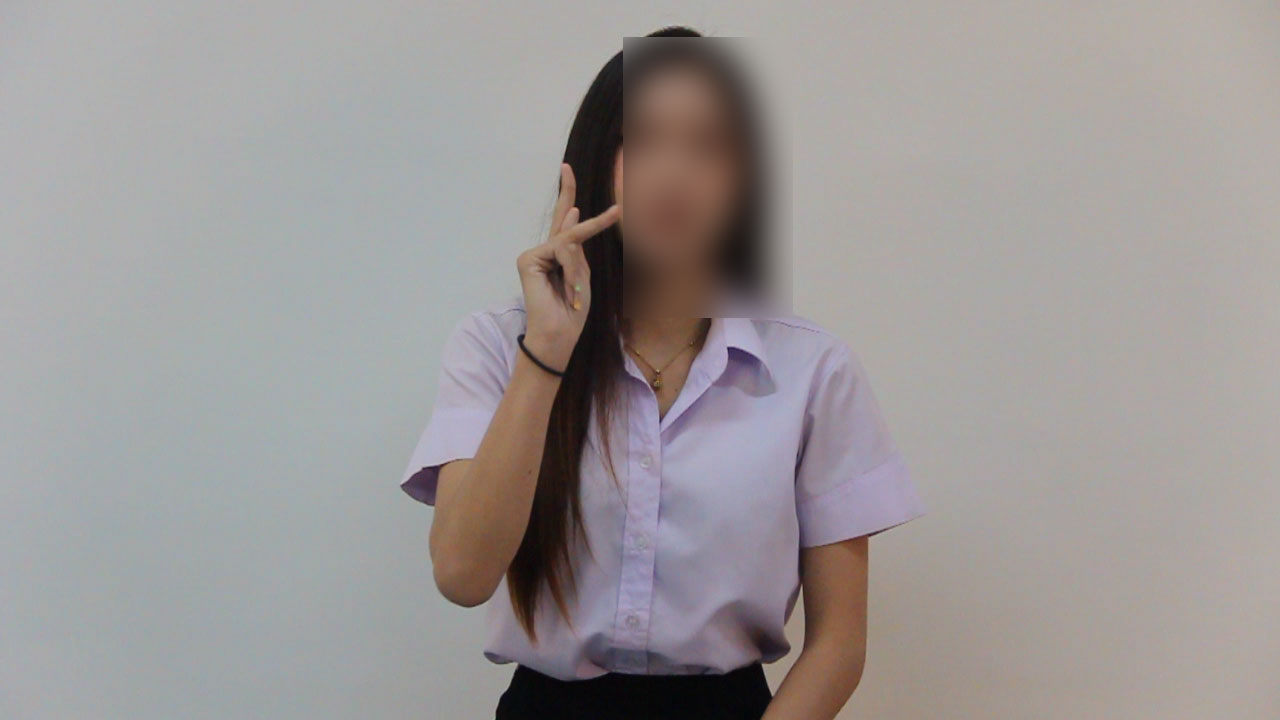ko: (492, 157, 627, 343)
